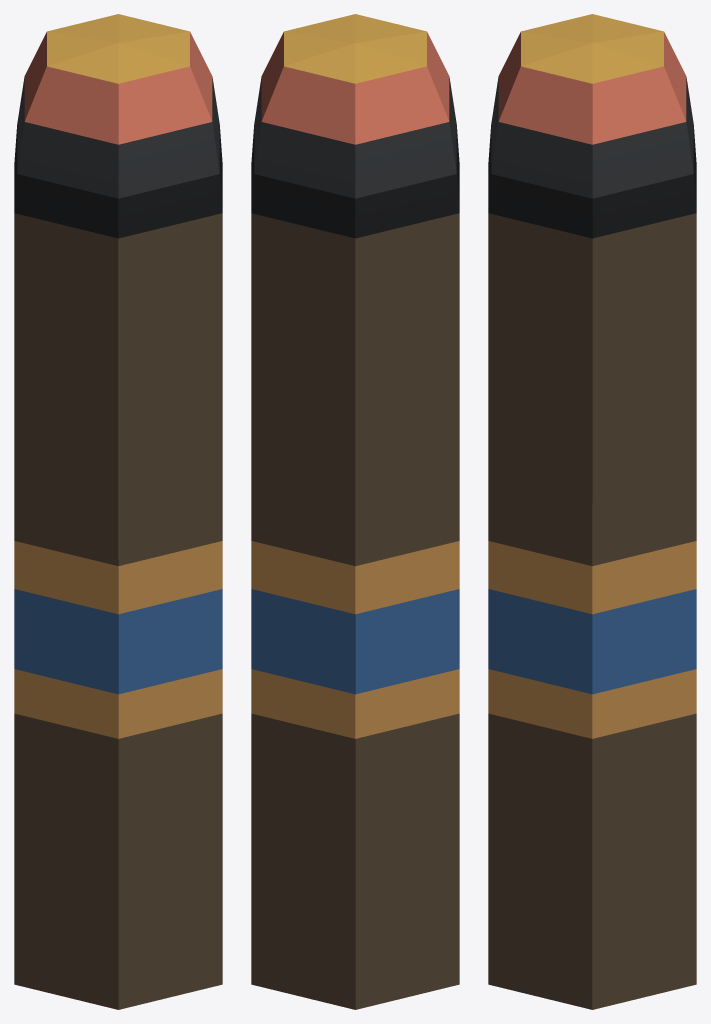
The model's file is SM_CharacterAttachments_Cigar_01.fbx.
3 views of the same model, side by side, from view 1: azimuth 30°, elevation 25°; view 2: azimuth 150°, elevation 25°; view 3: azimuth 270°, elevation 25° (orthographic).
Parts seen in each view (by area): view 1: SM_Wep_Ammo_BulletSmall_02; view 2: SM_Wep_Ammo_BulletSmall_02; view 3: SM_Wep_Ammo_BulletSmall_02.
Boxes of the visible parts, box(x1,y1,x2,y2) form: SM_Wep_Ammo_BulletSmall_02: box(14, 14, 222, 1009); SM_Wep_Ammo_BulletSmall_02: box(251, 14, 459, 1009); SM_Wep_Ammo_BulletSmall_02: box(488, 14, 696, 1009).
Size of the model in its own units: 0.00685 by 0.0288 by 0.00593.
